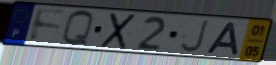2: (135, 15, 169, 52)
A: (204, 21, 240, 57)
F: (28, 6, 68, 44)
J: (178, 19, 210, 55)
Q: (60, 9, 96, 48)
X: (98, 11, 139, 51)
